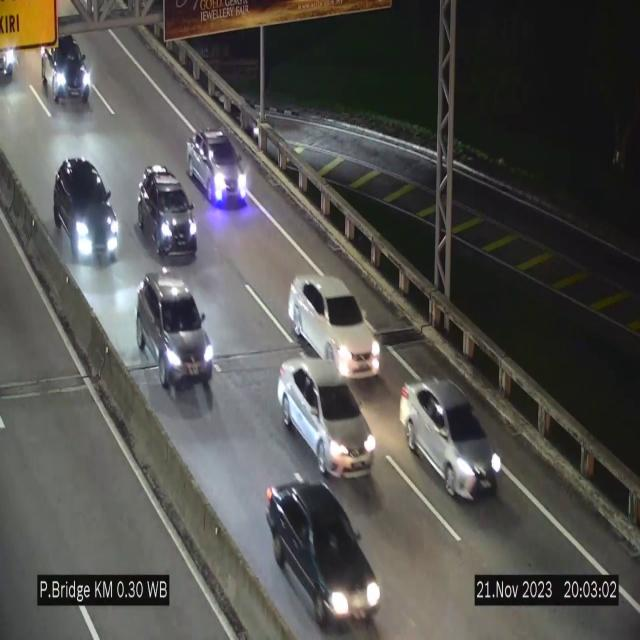Car: (266, 481, 380, 630), (400, 380, 502, 498), (278, 359, 376, 477), (137, 272, 213, 411), (288, 275, 379, 375), (52, 158, 126, 268), (183, 123, 250, 207), (138, 165, 196, 259), (42, 39, 93, 109)
